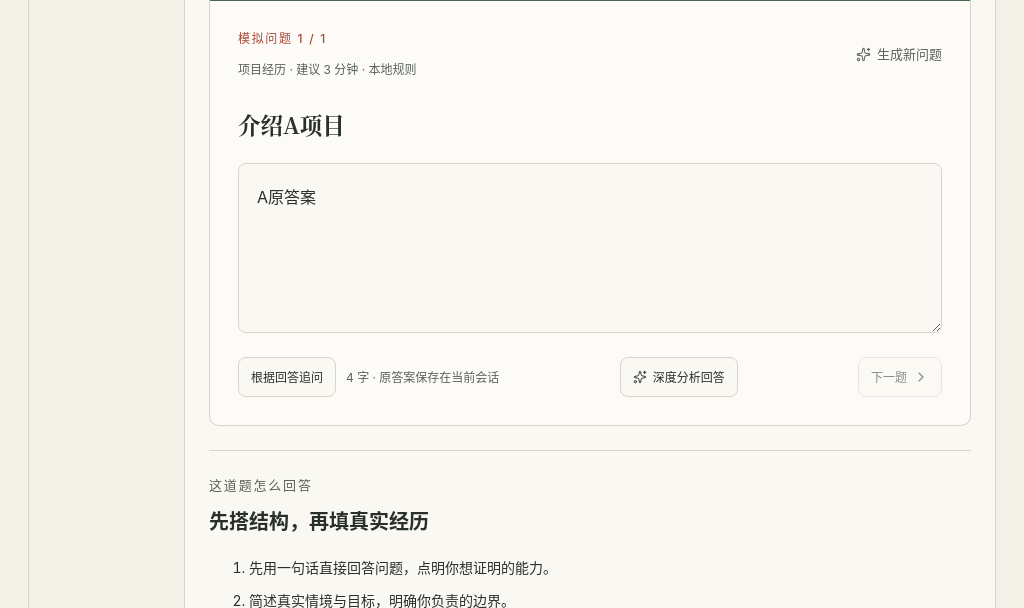
Test: InterviewStudio › 切换面试会话后返回结果只写回原问题和原材料
The width and height of the screenshot is (1024, 608).
(page scrolled)
Click the button "深度分析回答" at (679, 377), box [620,357,738,397]
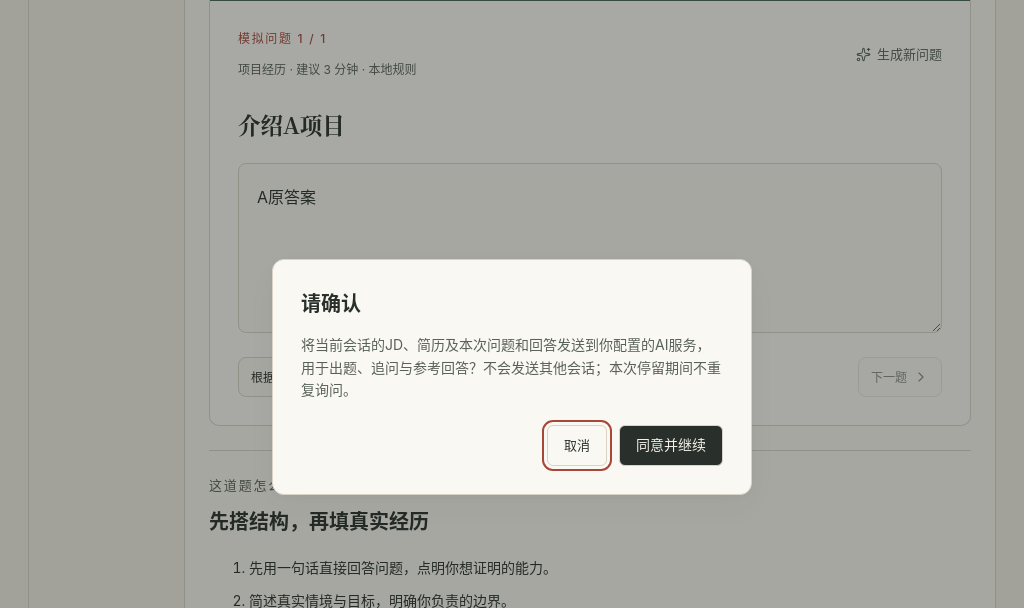
Click the button "同意并继续" at (671, 446), box [619,425,723,466]
(page scrolled)
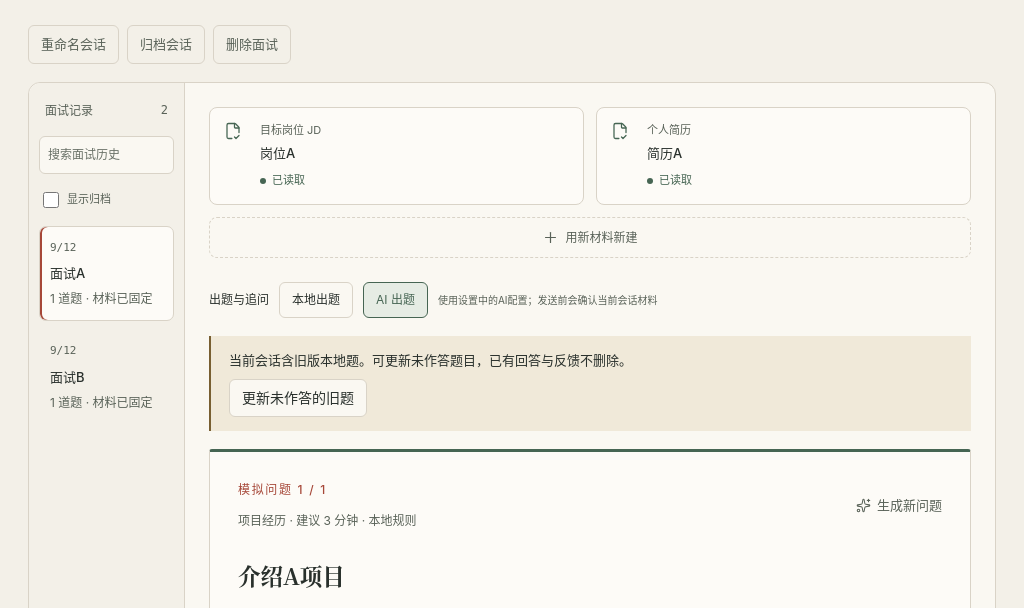
Click the button "9/12 面试B 1 道题 · 材料已固定" at (106, 377), box [39,329,174,425]
(page scrolled)
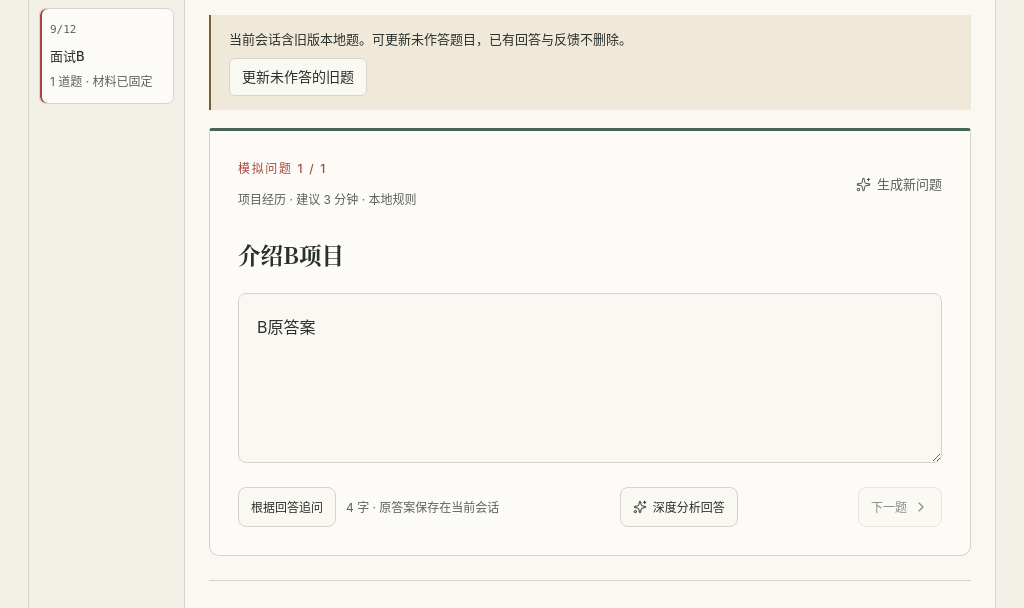
Check: the text box holds "B原答案", box [238,293,942,463]
